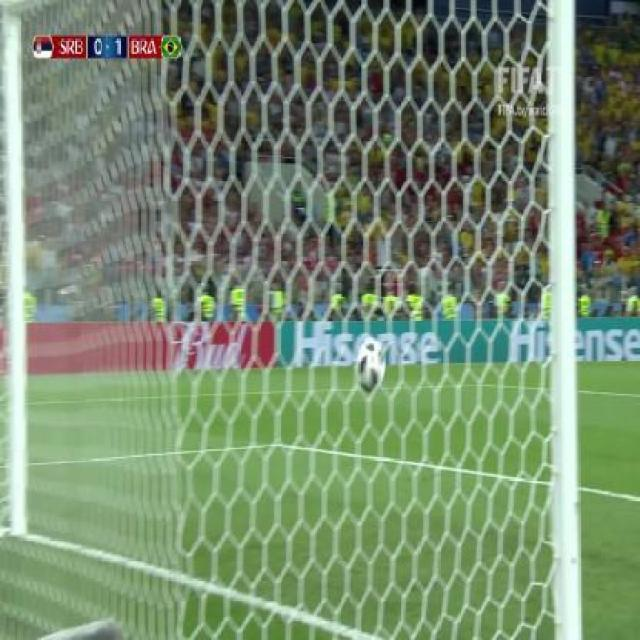ball: (350, 329, 390, 395)
